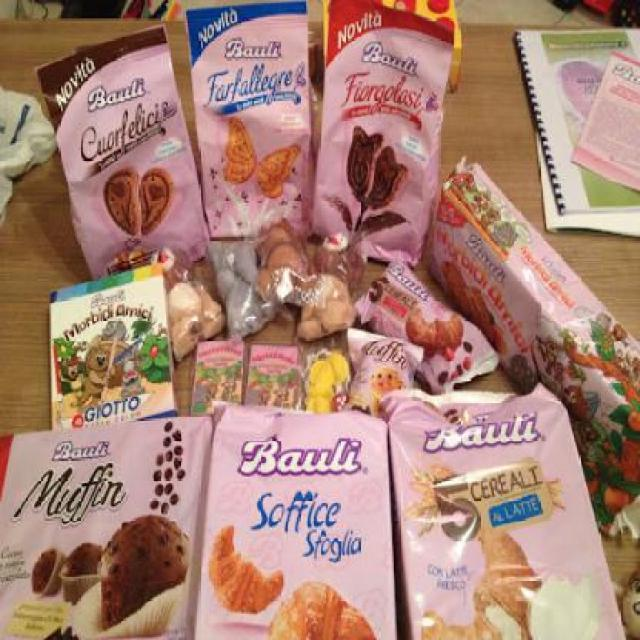Merendine: (435, 148, 639, 470), (391, 396, 629, 638), (2, 411, 200, 638), (203, 407, 394, 638), (363, 260, 494, 377), (352, 327, 419, 415)
